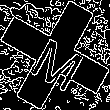M_NE: (23, 22, 87, 88)
